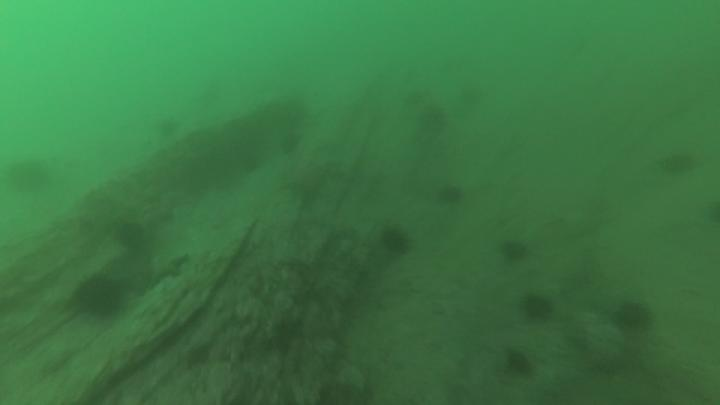echinus: (73, 274, 126, 321), (4, 154, 56, 197), (609, 298, 657, 335), (413, 99, 452, 136), (520, 290, 556, 326), (501, 347, 537, 382), (378, 222, 412, 259), (114, 219, 147, 253), (498, 235, 531, 268), (660, 149, 701, 175), (432, 184, 467, 208), (277, 129, 306, 157), (157, 114, 182, 141), (241, 153, 263, 177)
starfish: (147, 254, 193, 287)
